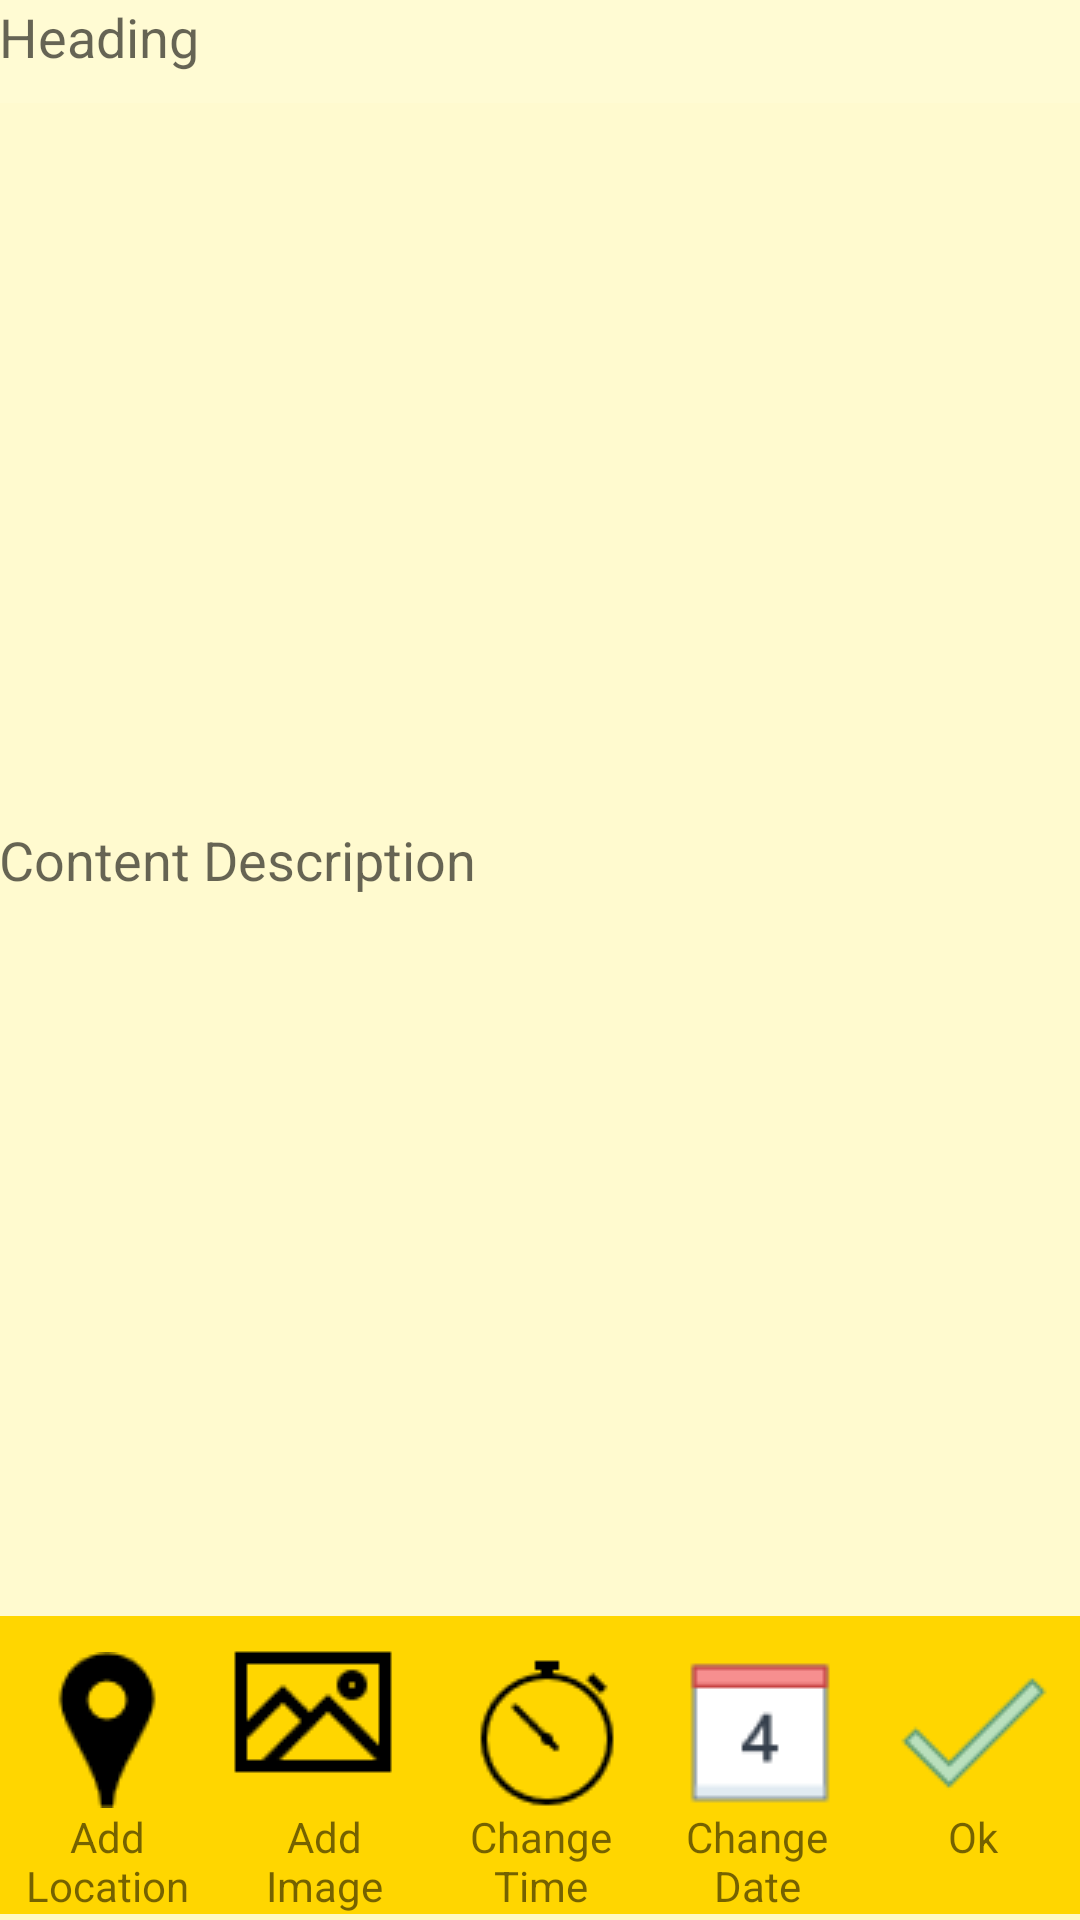

Where to tap for icons on this 1080×1920 app screen, as [x,y]:
marker: [107,1730]
